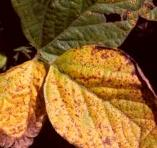Tomato Septoria leaf spot: (30, 24, 157, 148), (17, 0, 149, 83), (0, 50, 77, 148)
